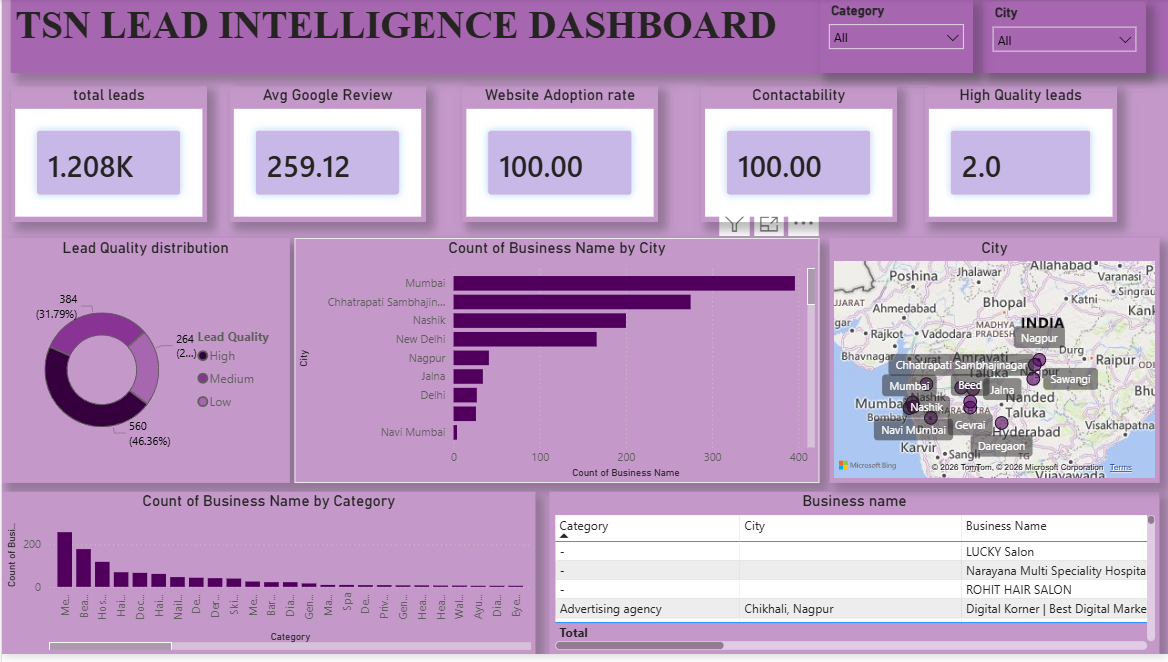

This screenshot's page, from the dashboard's own definition file:
{"tool":"powerbi","page":{"name":"Page 1","canvas":[1280,720],"ordinal":0},"visuals":[{"type":"textbox","box":[9.6,0,1270.7,82.3],"z":0},{"type":"slicer","fields":{"Values":["TSN_final (1).Category"]},"box":[897.4,0,168.8,82.3],"z":1000},{"type":"slicer","fields":{"Values":["TSN_final (1).City"]},"box":[1077.2,2.7,178.4,79.6],"z":2000},{"type":"cardVisual","title":"total leads","fields":{"Data":["CountNonNull(TSN_final (1).Business Name)"]},"box":[9.6,96.1,215.4,149.6],"z":3000},{"type":"cardVisual","title":"Avg Google Review","fields":{"Data":["Avg(TSN_final (1).Number of Reviews)"]},"box":[249.7,96.1,215.4,149.6],"z":4000},{"type":"cardVisual","title":"Website Adoption rate","fields":{"Data":["TSN_final (1).Website Adoption %"]},"box":[505,96.1,215.4,149.6],"z":5000},{"type":"donutChart","title":"Lead Quality distribution","fields":{"Category":["TSN_final (1).Lead Quality"],"Y":["CountNonNull(TSN_final (1).Business Name)"]},"box":[0,263.5,315.6,269],"z":6000},{"type":"clusteredBarChart","fields":{"Category":["TSN_final (1).City"],"Y":["CountNonNull(TSN_final (1).Business Name)"]},"box":[321.1,263.5,576.3,269],"z":7000},{"type":"clusteredColumnChart","fields":{"Category":["TSN_final (1).Category"],"Y":["CountNonNull(TSN_final (1).Business Name)"]},"box":[0,542,585.9,178.4],"z":8000},{"type":"tableEx","title":"Business name","fields":{"Values":["TSN_final (1).Category","TSN_final (1).City","TSN_final (1).Business Name","TSN_final (1).Email","TSN_final (1).Website","Sum(TSN_final (1).Google Rating)"]},"box":[601,542,669.6,178.4],"z":9000},{"type":"cardVisual","title":"Contactability","fields":{"Data":["TSN_final (1).Contactability %"]},"box":[767.1,96.1,215.4,149.6],"z":10000},{"type":"cardVisual","title":"High Quality leads","fields":{"Data":["Count(TSN_final (1).high lead Quality)"]},"box":[1012.7,96.1,211.3,149.6],"z":11000},{"type":"map","fields":{"Category":["TSN_final (1).City"]},"box":[908.4,263.5,362.3,269],"z":12000}]}

Visuals, with their boxes in screenshot pixels (x1, y1, x2, y2), scaled from the page's 1280x720 canvas onto the 1168x662 screenshot:
textbox: 9, 0, 1167, 76
slicer - TSN_final (1).Category: 819, 0, 973, 76
slicer - TSN_final (1).City: 983, 2, 1146, 76
"total leads" cardVisual: 9, 88, 205, 226
"Avg Google Review" cardVisual: 228, 88, 424, 226
"Website Adoption rate" cardVisual: 461, 88, 657, 226
"Lead Quality distribution" donutChart: 0, 242, 288, 490
clusteredBarChart - TSN_final (1).City x CountNonNull(TSN_final (1).Business Name): 293, 242, 819, 490
clusteredColumnChart - TSN_final (1).Category x CountNonNull(TSN_final (1).Business Name): 0, 498, 535, 661
"Business name" tableEx: 548, 498, 1159, 661
"Contactability" cardVisual: 700, 88, 897, 226
"High Quality leads" cardVisual: 924, 88, 1117, 226
map - TSN_final (1).City: 829, 242, 1160, 490
